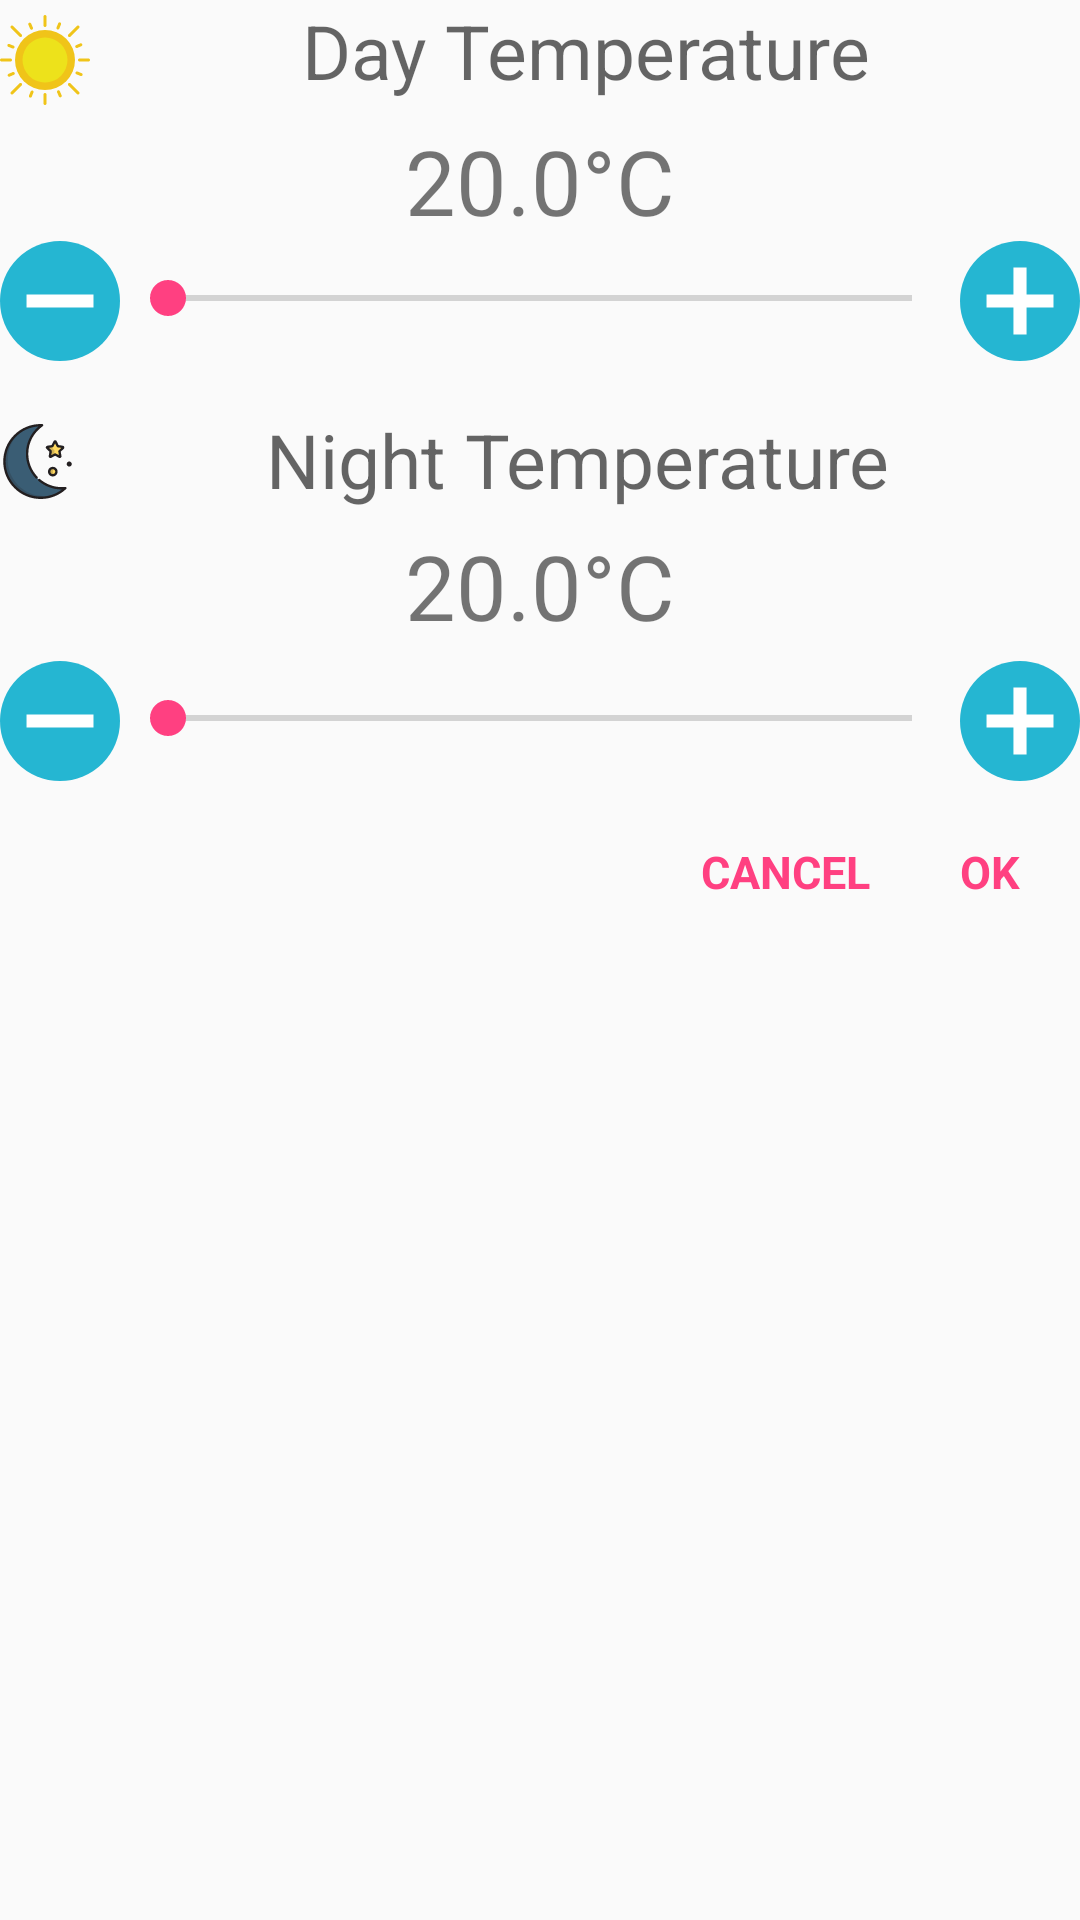

Locate icon controls on the screen. Image size 1080w x 1920h, boxes as {"left": x1, "top": y1, "right": x2, "bottom": y2}.
add: {"left": 960, "top": 241, "right": 1080, "bottom": 361}, {"left": 960, "top": 661, "right": 1080, "bottom": 781}
remove: {"left": 0, "top": 241, "right": 120, "bottom": 361}, {"left": 0, "top": 661, "right": 120, "bottom": 781}
